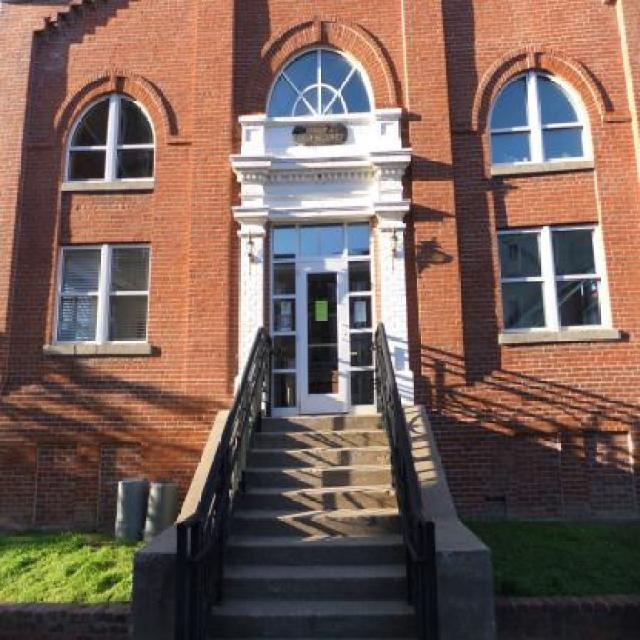stair: (208, 409, 416, 640)
